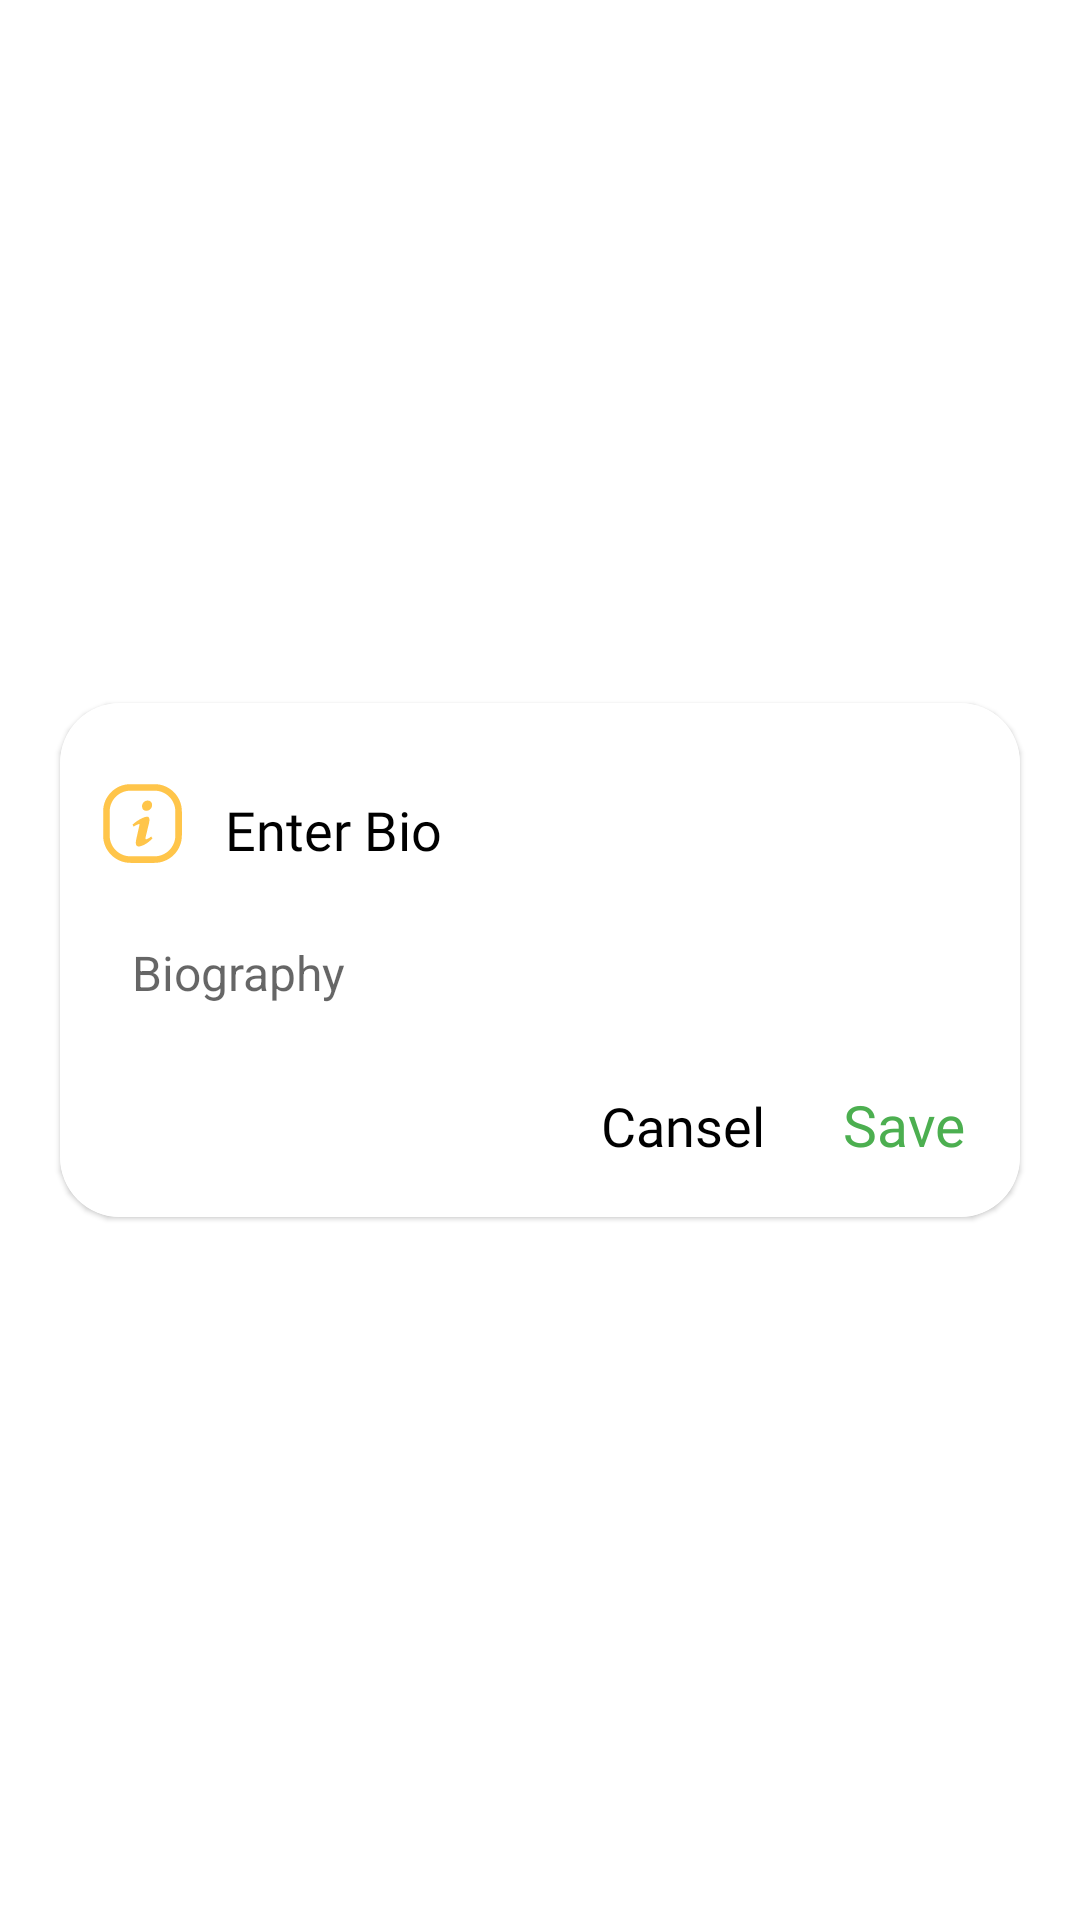

Named icons in this screenshot (1080px×1920px) and their bounding boxes, (x1, y1, x2, y2):
about app: (103, 784, 182, 863)
